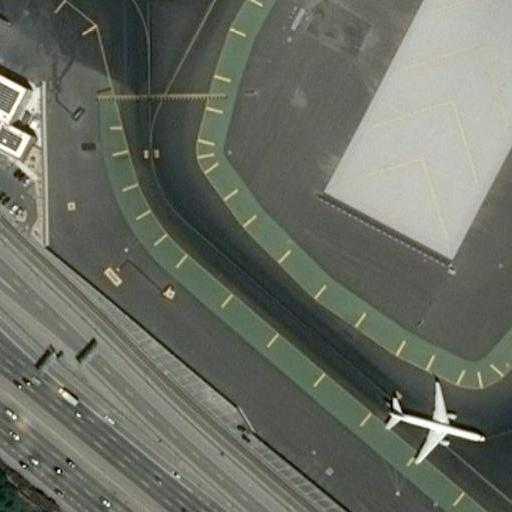Aircraft: (380, 377, 483, 468)
